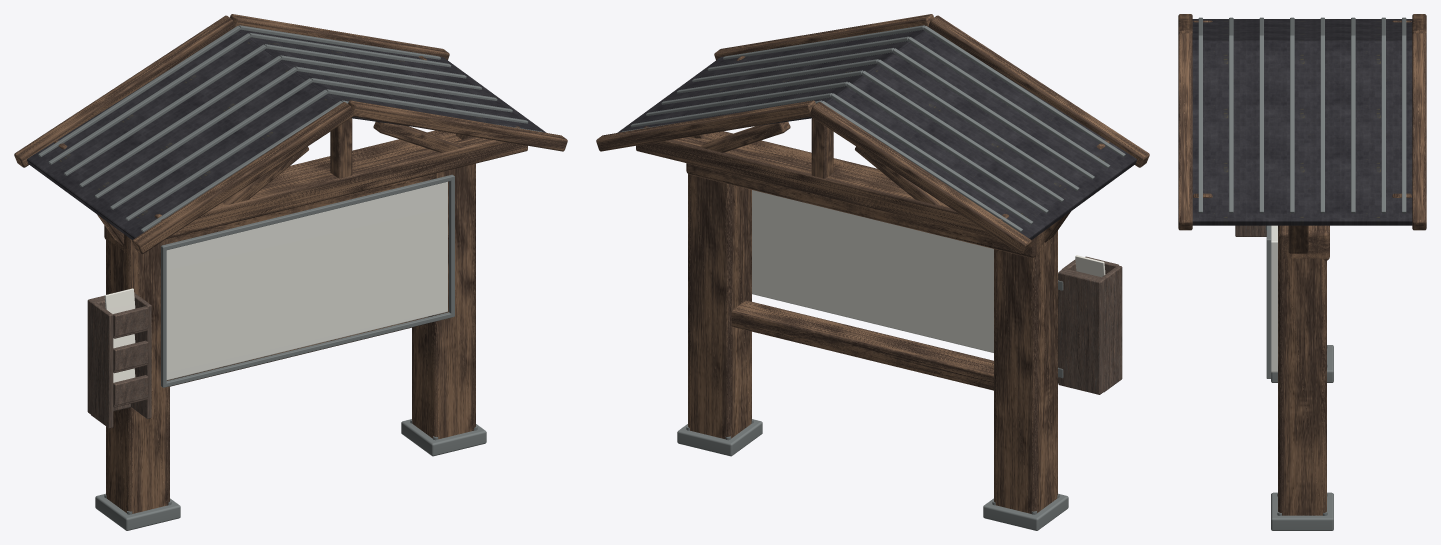
The model's file is mapStand_V3.glb.
3 renders of one model, left to right at view 1: azimuth 30°, elevation 25°; view 2: azimuth 150°, elevation 25°; view 3: azimuth 270°, elevation 25°, orthographic.
Parts seen in each view (by area): view 1: BLANK MAP CANVAS, Left pitched roof, Right extra-thick cedar post, Left extra-thick cedar post, Front gable tie beam, Right pitched roof, Front left fascia, Heavy upper header, Rear left fascia, Front right fascia, Brochure rack left cheek, Rear right fascia (+29 smaller); view 2: BLANK MAP CANVAS, Left pitched roof, Left extra-thick cedar post, Right extra-thick cedar post, Rear gable tie beam, Lower display support, Right pitched roof, Heavy upper header, Brochure rack backboard, Rear left fascia, Front left fascia, Rear right fascia (+22 smaller); view 3: Right pitched roof, Right extra-thick cedar post, Left pitched roof, Front right fascia, Rear right fascia, Right steel base plate, Heavy upper header, BLANK MAP CANVAS, Right roof seam, Right roof seam.001, Right roof seam.002, Right roof seam.003 (+8 smaller).
Boxes of the visible parts, x1,y1,x2,y2 form: BLANK MAP CANVAS: (166, 181, 447, 380); Left pitched roof: (27, 31, 336, 239); Right extra-thick cedar post: (412, 163, 475, 439); Left extra-thick cedar post: (106, 234, 169, 513); Front gable tie beam: (154, 126, 527, 238); Right pitched roof: (239, 30, 546, 132); Front left fascia: (132, 102, 353, 253); Heavy upper header: (104, 130, 461, 252); Rear left fascia: (14, 15, 235, 167); Front right fascia: (348, 100, 567, 151); Brochure rack left cheek: (91, 302, 113, 428); Rear right fascia: (230, 14, 449, 60); BLANK MAP CANVAS: (752, 190, 993, 352); Left pitched roof: (827, 31, 1136, 239); Left extra-thick cedar post: (994, 230, 1057, 513); Right extra-thick cedar post: (688, 174, 751, 439); Rear gable tie beam: (636, 126, 1009, 238); Lower display support: (731, 300, 993, 390); Right pitched roof: (617, 30, 924, 132); Heavy upper header: (686, 131, 1045, 257); Brochure rack backboard: (1058, 269, 1104, 394); Rear left fascia: (810, 102, 1031, 253); Front left fascia: (928, 15, 1149, 167); Rear right fascia: (596, 100, 815, 151); Right pitched roof: (1192, 41, 1412, 225); Right extra-thick cedar post: (1278, 225, 1326, 515); Left pitched roof: (1192, 19, 1412, 41); Front right fascia: (1178, 33, 1192, 230); Rear right fascia: (1412, 33, 1426, 230); Right steel base plate: (1271, 492, 1333, 530); Heavy upper header: (1279, 225, 1329, 260); BLANK MAP CANVAS: (1271, 225, 1277, 372); Right roof seam: (1198, 36, 1202, 213); Right roof seam.001: (1229, 36, 1233, 213); Right roof seam.002: (1259, 36, 1263, 213); Right roof seam.003: (1290, 36, 1294, 213).
Size of the model in its own units: 4.85 by 4.47 by 2.44.
6 materials, 3 textured.
